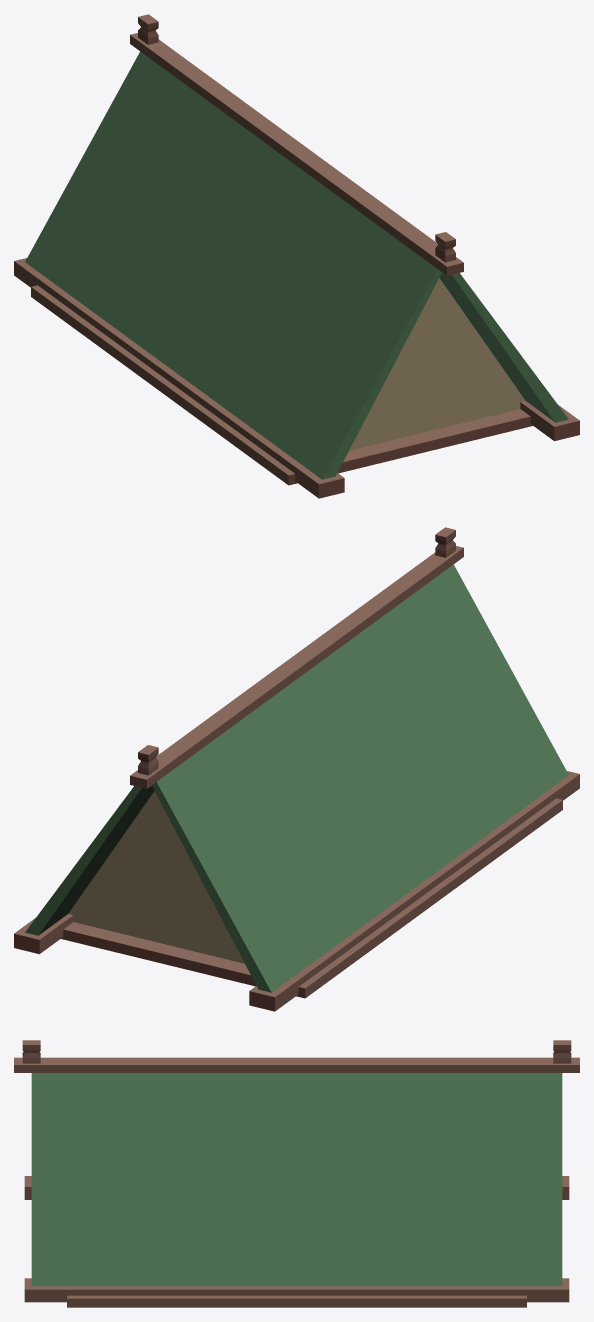
The model's file is SF_Bld_Elven_HouseAdd_Roof_03.fbx.
3 renders of one model, top to bottom at view 1: azimuth 30°, elevation 25°; view 2: azimuth 150°, elevation 25°; view 3: azimuth 270°, elevation 25°, orthographic. The views are drawn at different scales.
Visible parts, largest first — view 1: SF_Bld_Elven_HouseAdd_Roof_03; view 2: SF_Bld_Elven_HouseAdd_Roof_03; view 3: SF_Bld_Elven_HouseAdd_Roof_03.
Boxes of the visible parts, left/top/right/bottom form: SF_Bld_Elven_HouseAdd_Roof_03: left=14, top=14, right=579, bottom=498; SF_Bld_Elven_HouseAdd_Roof_03: left=14, top=527, right=579, bottom=1011; SF_Bld_Elven_HouseAdd_Roof_03: left=14, top=1040, right=579, bottom=1307.
Bounding box in the file's own units: 8.97 × 7.18 × 17.97.
